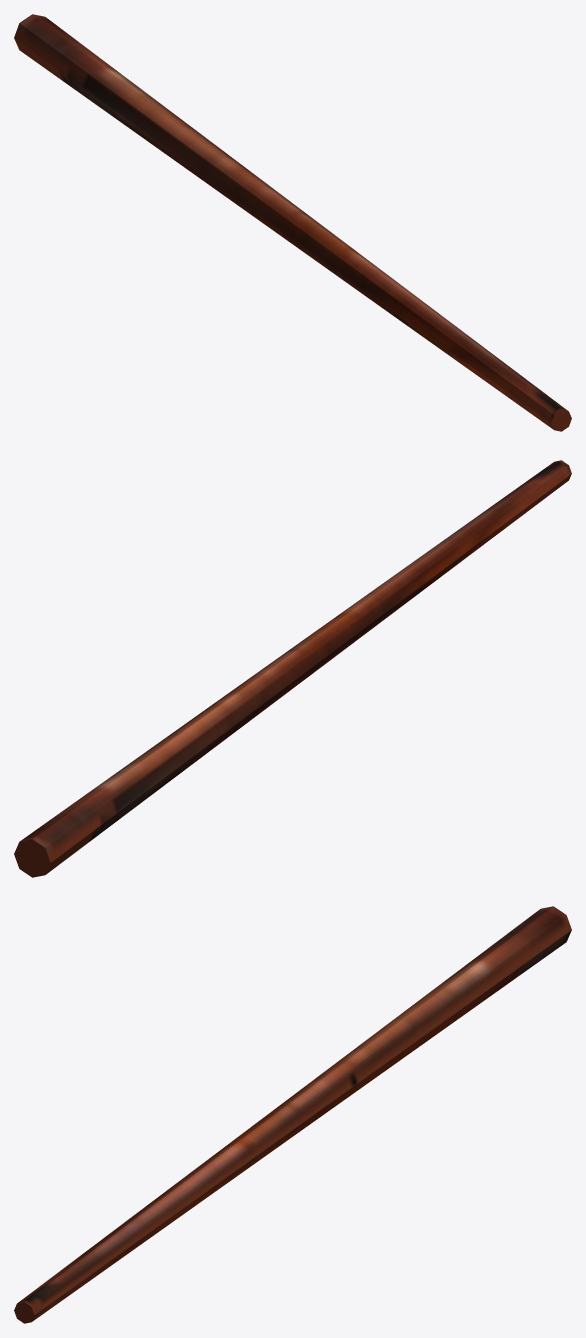
Rendered from Instrument_Drumstick.glb.
3 views of the same model, one above another, from view 1: azimuth 30°, elevation 25°; view 2: azimuth 150°, elevation 25°; view 3: azimuth 330°, elevation 25° (orthographic).
Visible parts, largest first — view 1: model_Instrument_Drumstick; view 2: model_Instrument_Drumstick; view 3: model_Instrument_Drumstick.
Boxes of the visible parts, bbox=[...] form: model_Instrument_Drumstick: bbox=[14, 14, 571, 431]; model_Instrument_Drumstick: bbox=[14, 460, 571, 877]; model_Instrument_Drumstick: bbox=[14, 906, 571, 1323].
Bounding box in the file's own units: 0.016 × 0.016 × 0.4.
Materials: 1 (1 with a texture image).
